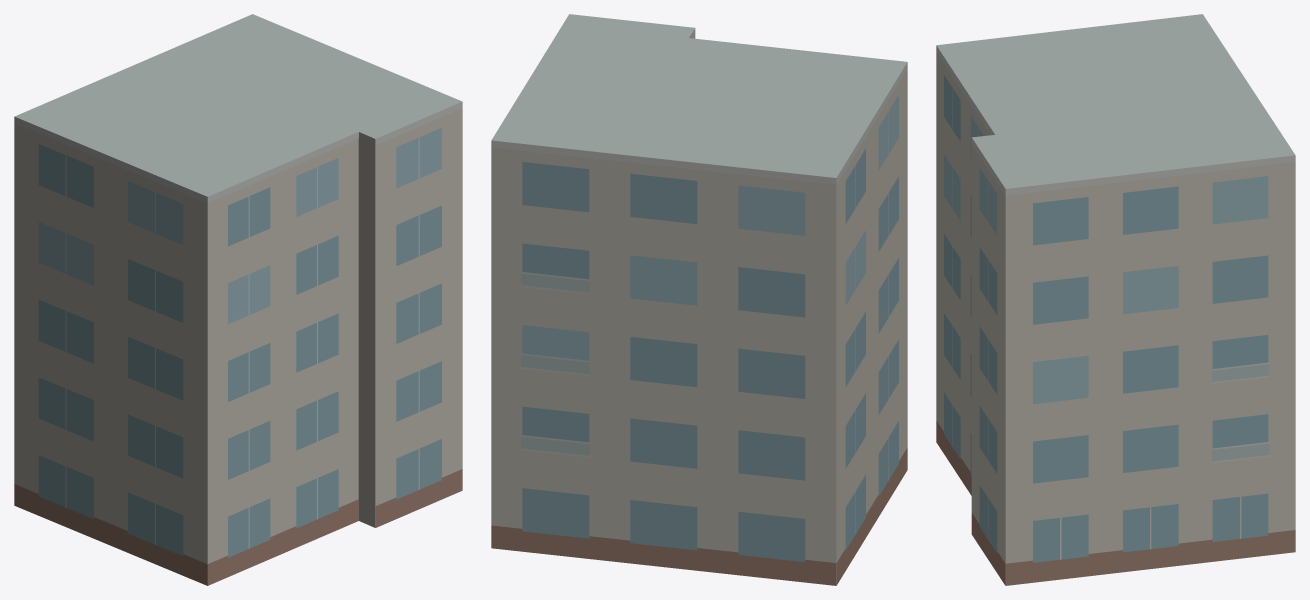
The model's file is survey-upis-32992402.glb.
The picture shows the model from 3 angles, left to right: view 1: azimuth 30°, elevation 25°; view 2: azimuth 150°, elevation 25°; view 3: azimuth 270°, elevation 25°; orthographic projection. The views are drawn at different scales.
Parts seen in each view (by area): view 1: survey-upis-32992402.tmp; view 2: survey-upis-32992402.tmp; view 3: survey-upis-32992402.tmp.
Part boxes in pixels (x1,y1,x2,y2): survey-upis-32992402.tmp: [14, 14, 462, 585]; survey-upis-32992402.tmp: [491, 14, 907, 585]; survey-upis-32992402.tmp: [936, 14, 1295, 585].
Bounding box in the file's own units: 13.77 × 14.55 × 11.95.
